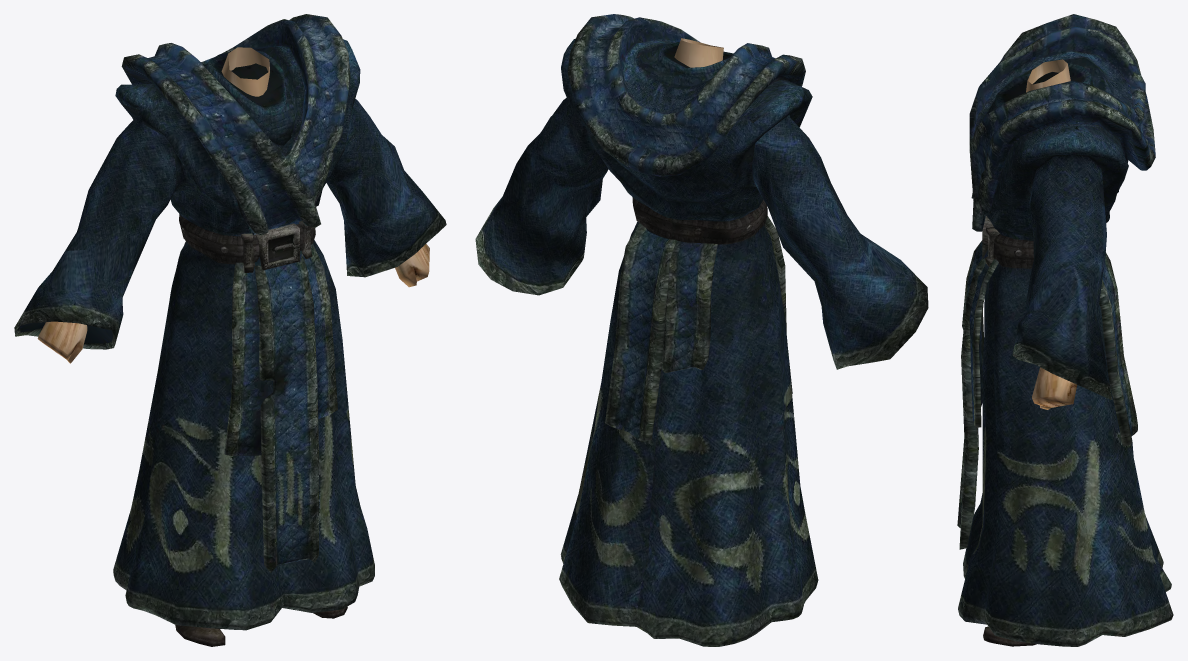
The model's file is ARMOR_WATERMAGES_L.glb.
3 renders of one model, left to right at view 1: azimuth 30°, elevation 25°; view 2: azimuth 150°, elevation 25°; view 3: azimuth 270°, elevation 25°, orthographic. The views are drawn at different scales.
Parts seen in each view (by area): view 1: ARMOR_WATERMAGES_L; view 2: ARMOR_WATERMAGES_L; view 3: ARMOR_WATERMAGES_L.
Boxes of the visible parts, x1,y1,x2,y2 form: ARMOR_WATERMAGES_L: (14, 14, 446, 646); ARMOR_WATERMAGES_L: (475, 14, 928, 646); ARMOR_WATERMAGES_L: (957, 14, 1173, 646).
Size of the model in its own units: 1.34 by 1.71 by 0.5999.
2 materials, 2 textured.
